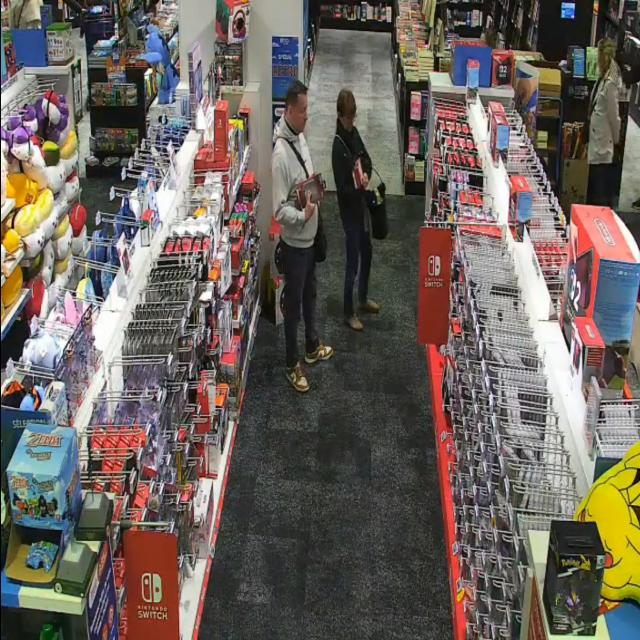article: (297, 172, 326, 209), (351, 158, 363, 191)
bags: (365, 168, 388, 239), (314, 203, 327, 262)
hands: (305, 192, 316, 222), (362, 174, 369, 189)
person: (272, 81, 333, 392), (332, 90, 379, 330), (588, 39, 621, 206)
